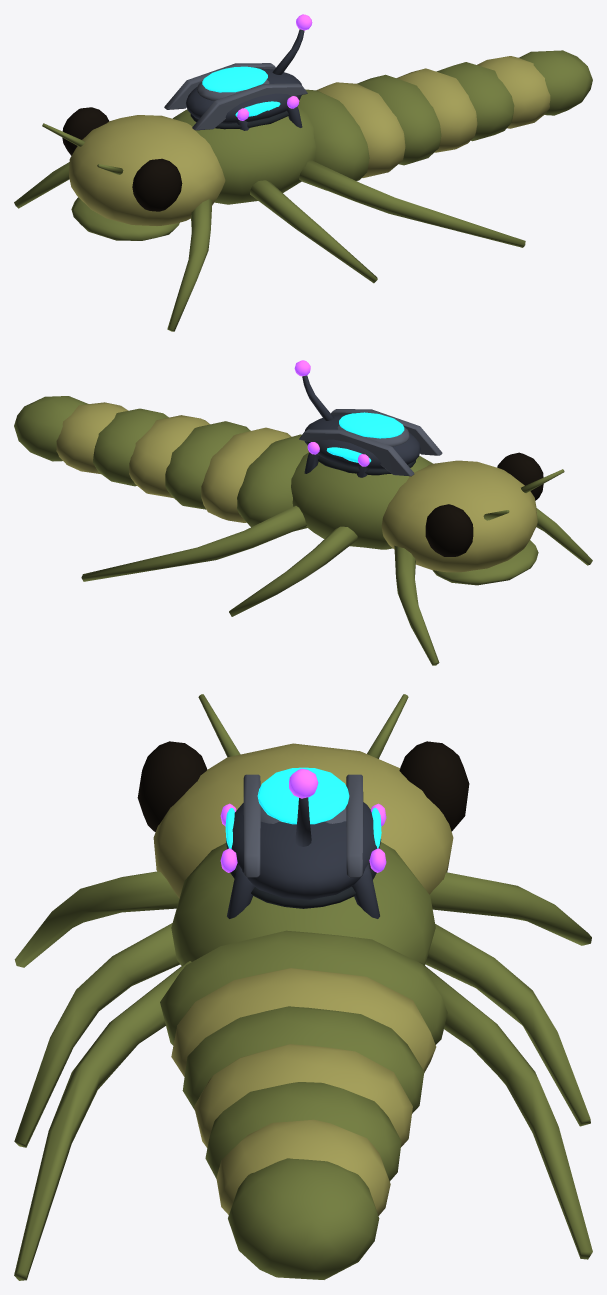
The model's file is controlled_dragonfly_nymph.glb.
The picture shows the model from 3 angles, top to bottom: view 1: azimuth 30°, elevation 25°; view 2: azimuth 150°, elevation 25°; view 3: azimuth 270°, elevation 25°; orthographic projection. The views are drawn at different scales.
Visible parts, largest first — view 1: NaturalFaunaGeometry, AlienControlDeviceGeometry; view 2: NaturalFaunaGeometry, AlienControlDeviceGeometry; view 3: NaturalFaunaGeometry, AlienControlDeviceGeometry.
Boxes of the visible parts, x1,y1,x2,y2 form: NaturalFaunaGeometry: (14,50,592,331); AlienControlDeviceGeometry: (164,14,312,130); NaturalFaunaGeometry: (14,396,592,665); AlienControlDeviceGeometry: (294,360,442,477); NaturalFaunaGeometry: (14,694,592,1280); AlienControlDeviceGeometry: (220,767,386,918).
Size of the model in its own units: 1.82 by 0.706 by 0.963.
